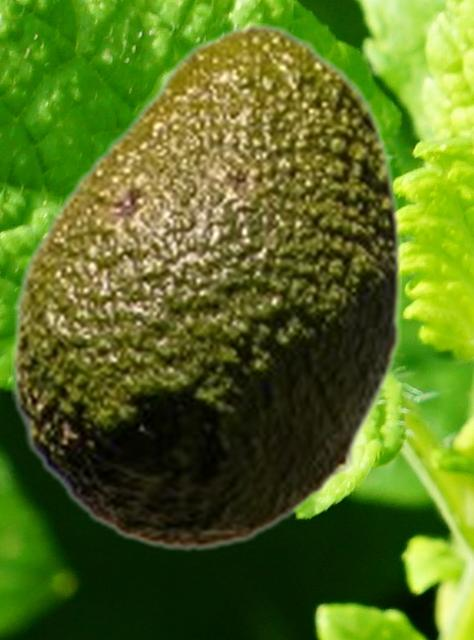avocado: (11, 23, 400, 552)
